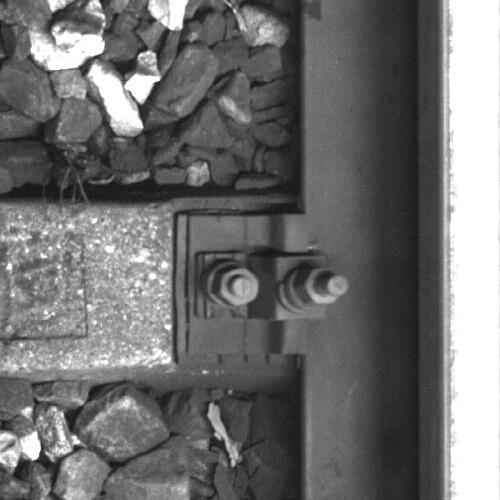kb: (184, 213, 348, 359)
nut: (293, 262, 348, 308), (214, 265, 260, 307)
rail: (441, 2, 500, 500)
tie_concr: (1, 204, 295, 366)
